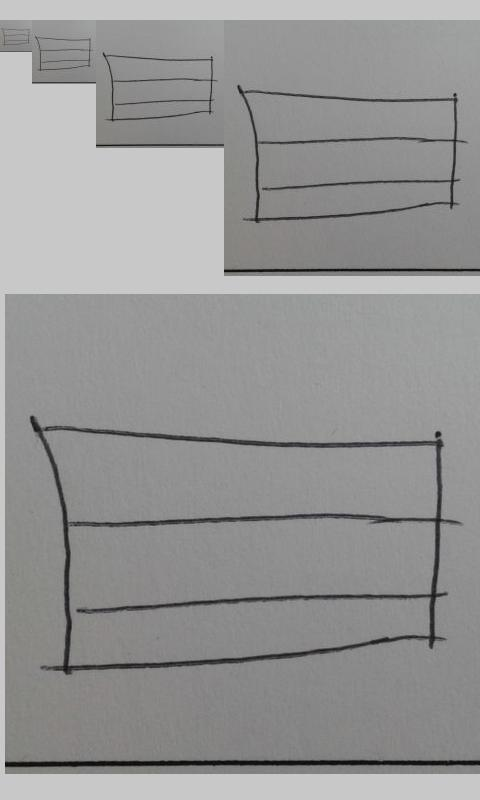list_view: (36, 425, 447, 678), (239, 88, 460, 225), (104, 54, 214, 122), (35, 36, 91, 72), (2, 28, 30, 46)
